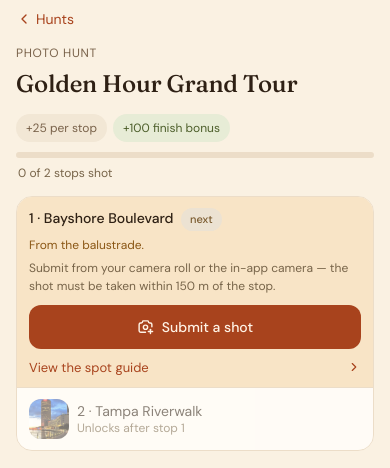
Scenario: Hunt detail — native capture › capture → upload → locate → submit, then advances progress
Step 1. Click the button "Submit a shot" → x=195, y=326, box [29, 304, 361, 348]
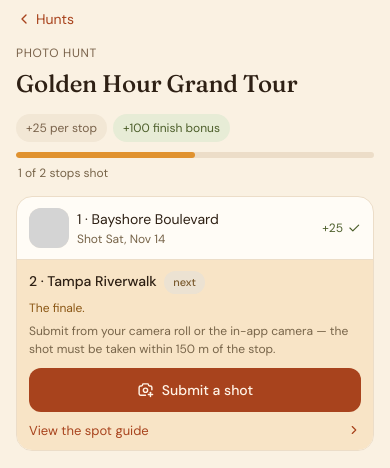
Check: the text "1 of 2 stops shot" is shown, box [18, 165, 108, 181]
